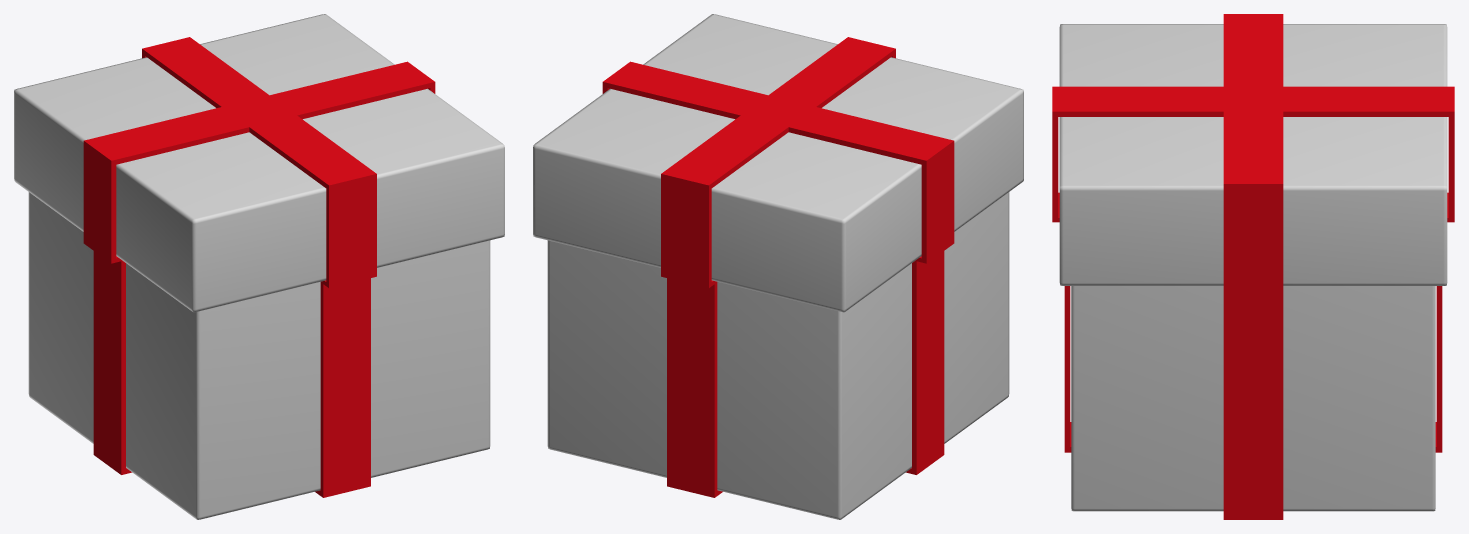
The model's file is Gift Box.fbx.
3 renders of one model, left to right at view 1: azimuth 30°, elevation 25°; view 2: azimuth 150°, elevation 25°; view 3: azimuth 270°, elevation 25°, orthographic. The views are drawn at different scales.
Visible parts, largest first — view 1: Gift Box; view 2: Gift Box; view 3: Gift Box.
Part boxes in pixels (x1=…): Gift Box: x1=14, y1=14, x2=504, y2=519; Gift Box: x1=533, y1=14, x2=1023, y2=519; Gift Box: x1=1052, y1=14, x2=1454, y2=519.
Size of the model in its own units: 221 by 206 by 221.
